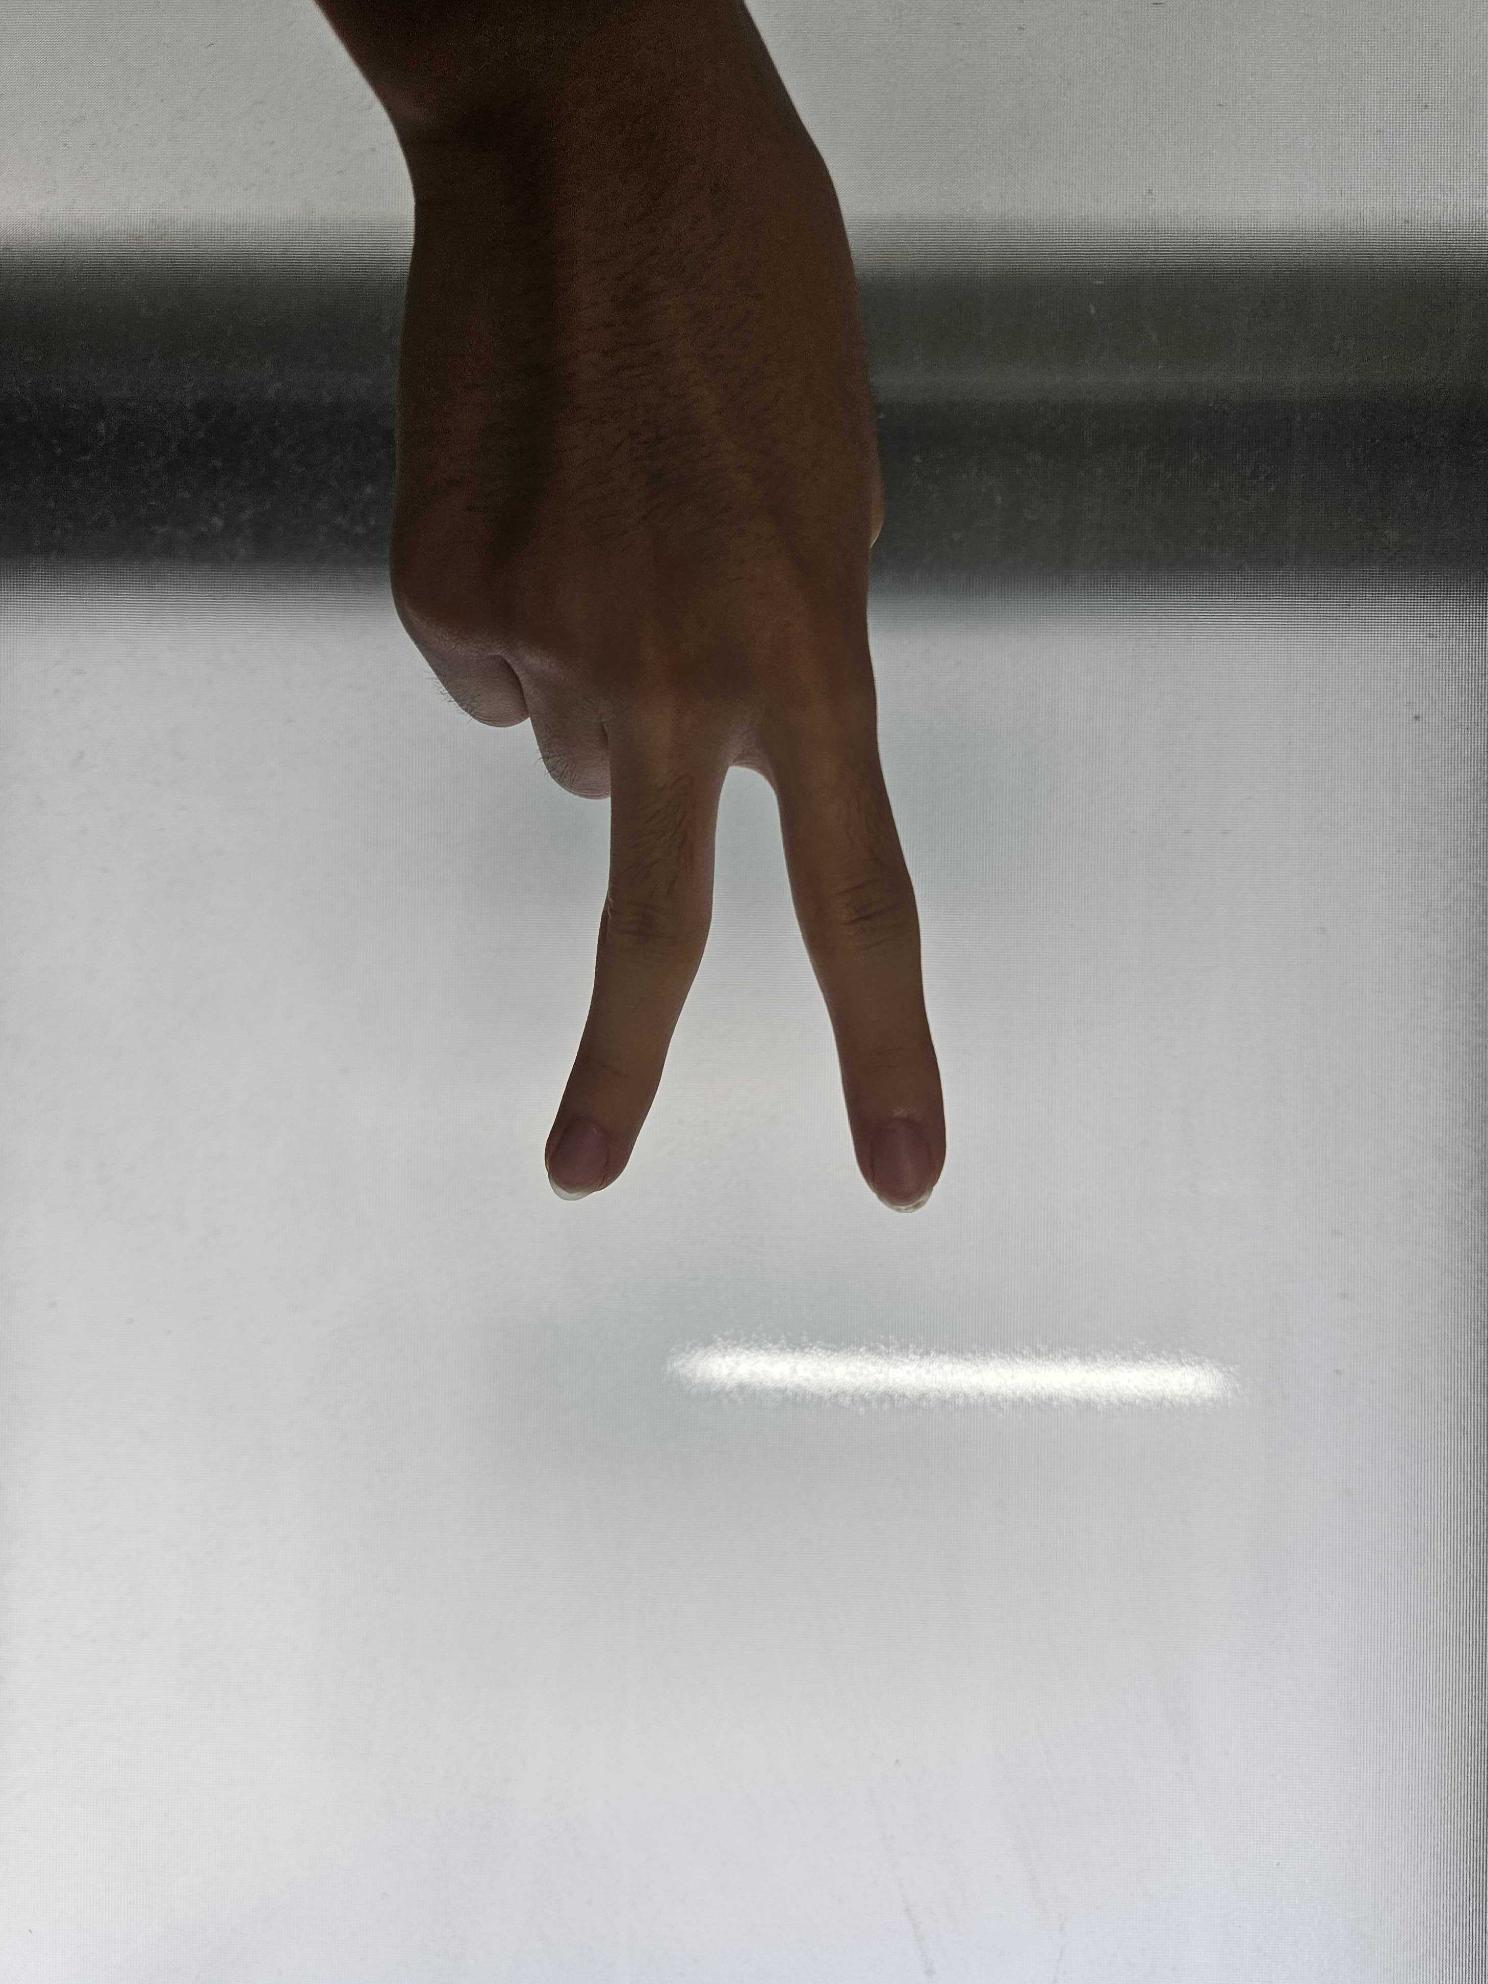v: (374, 0, 961, 1229)
